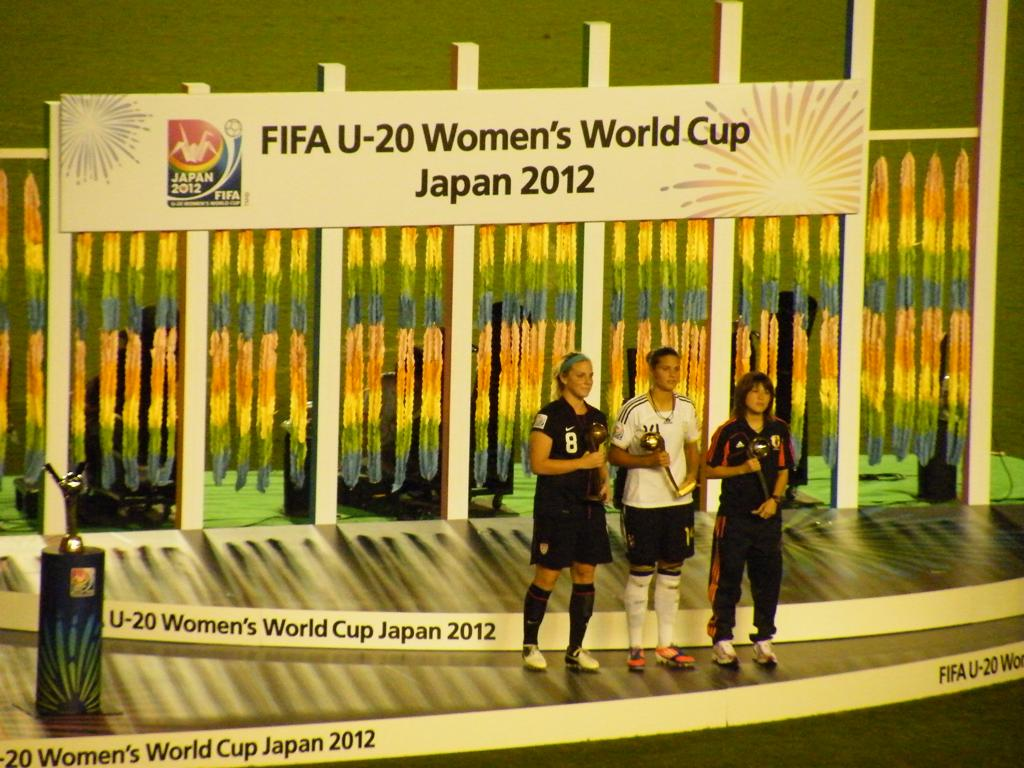face: (652, 357, 681, 389), (566, 363, 592, 396), (745, 381, 770, 412)
